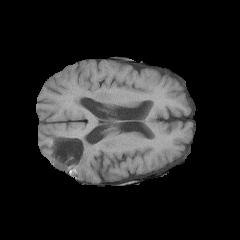glioma: (52, 136, 97, 178)
